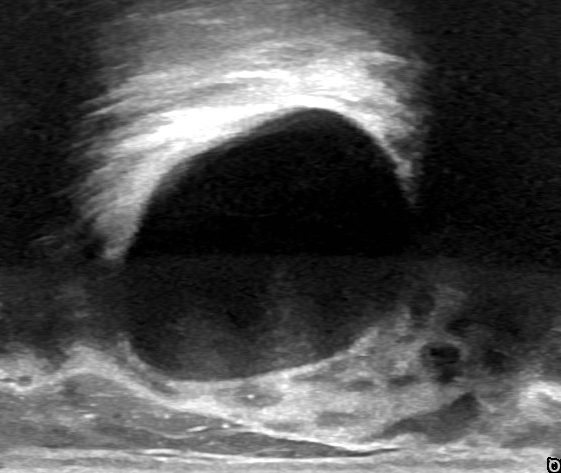Benign: (142, 111, 398, 355)
